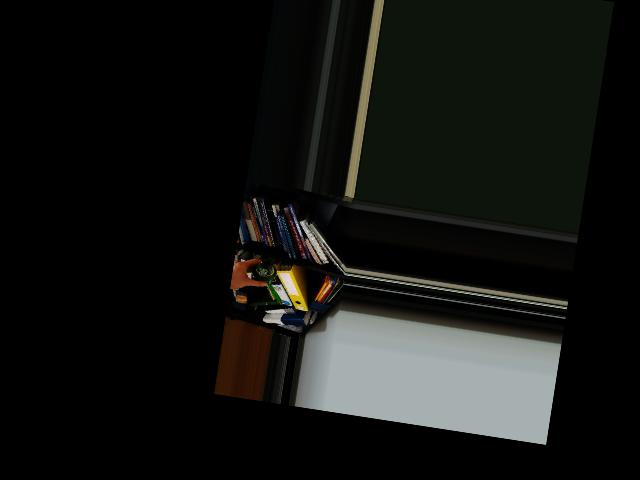beer: (251, 257, 278, 286)
